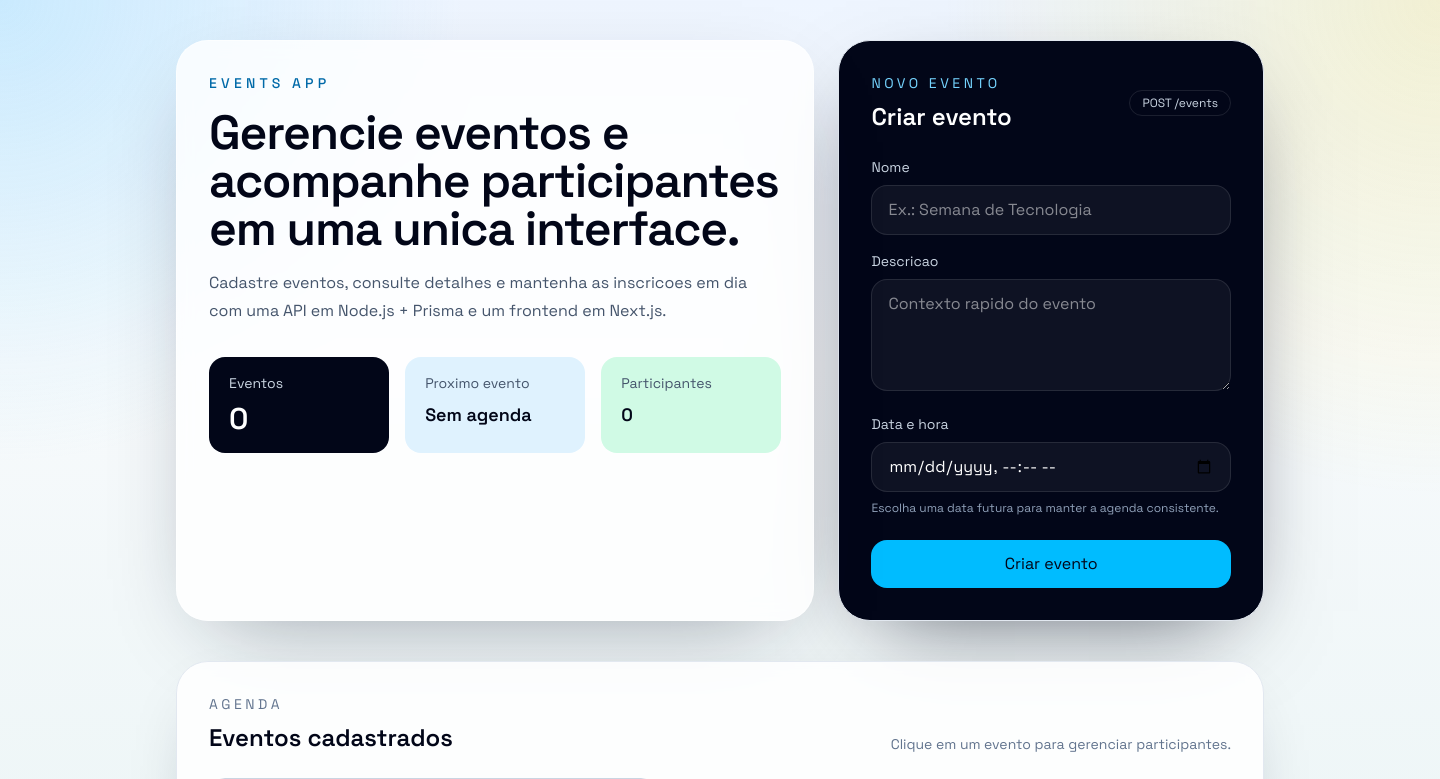
Scenario: HomePage › shows validation error for past date
Type "Tech Summit" into the field with placeholder "Ex.: Semana de Tecnologia" at coordinates (1051, 210), box [871,185,1231,235]
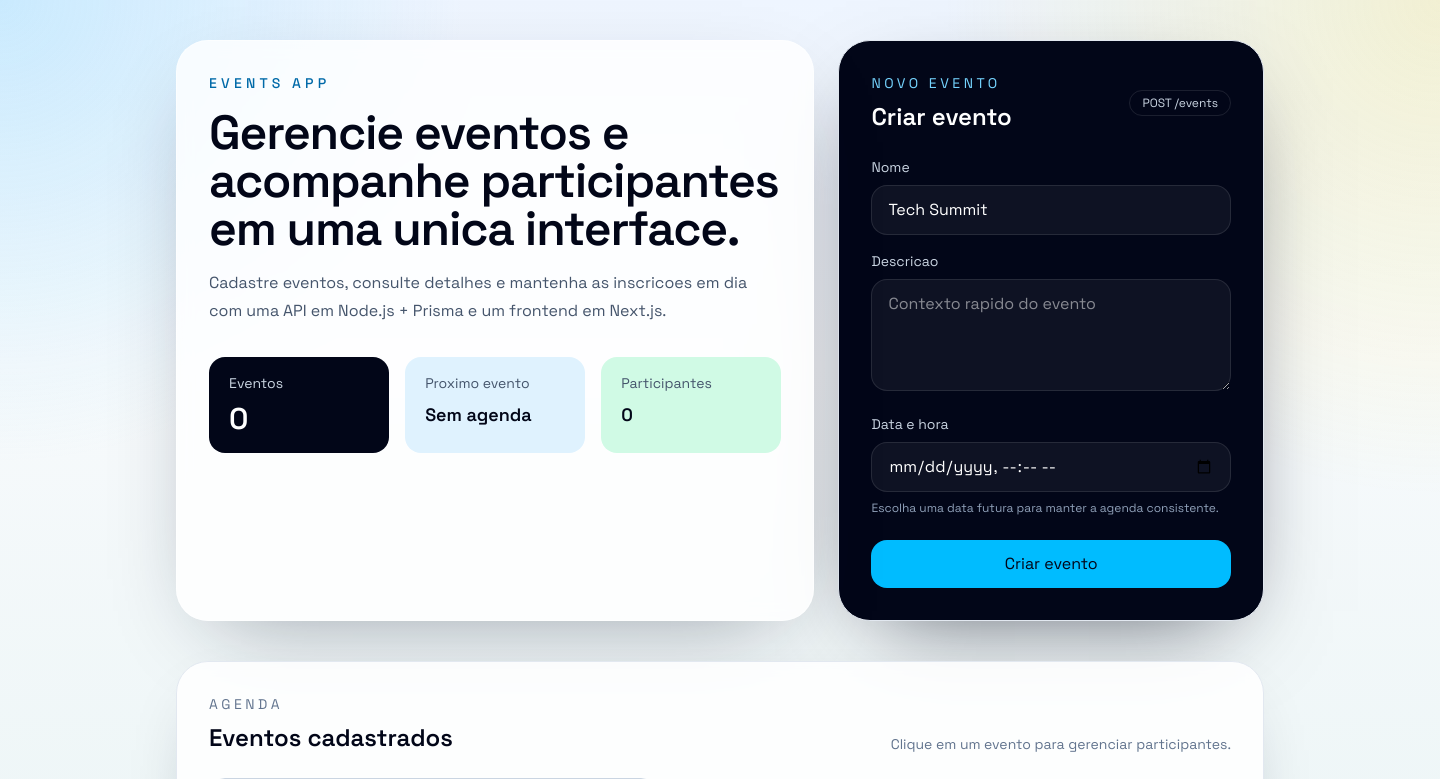
Type "2020-01-01T10:00" into the 2nd field at coordinates (1051, 467), box [871,442,1231,492]
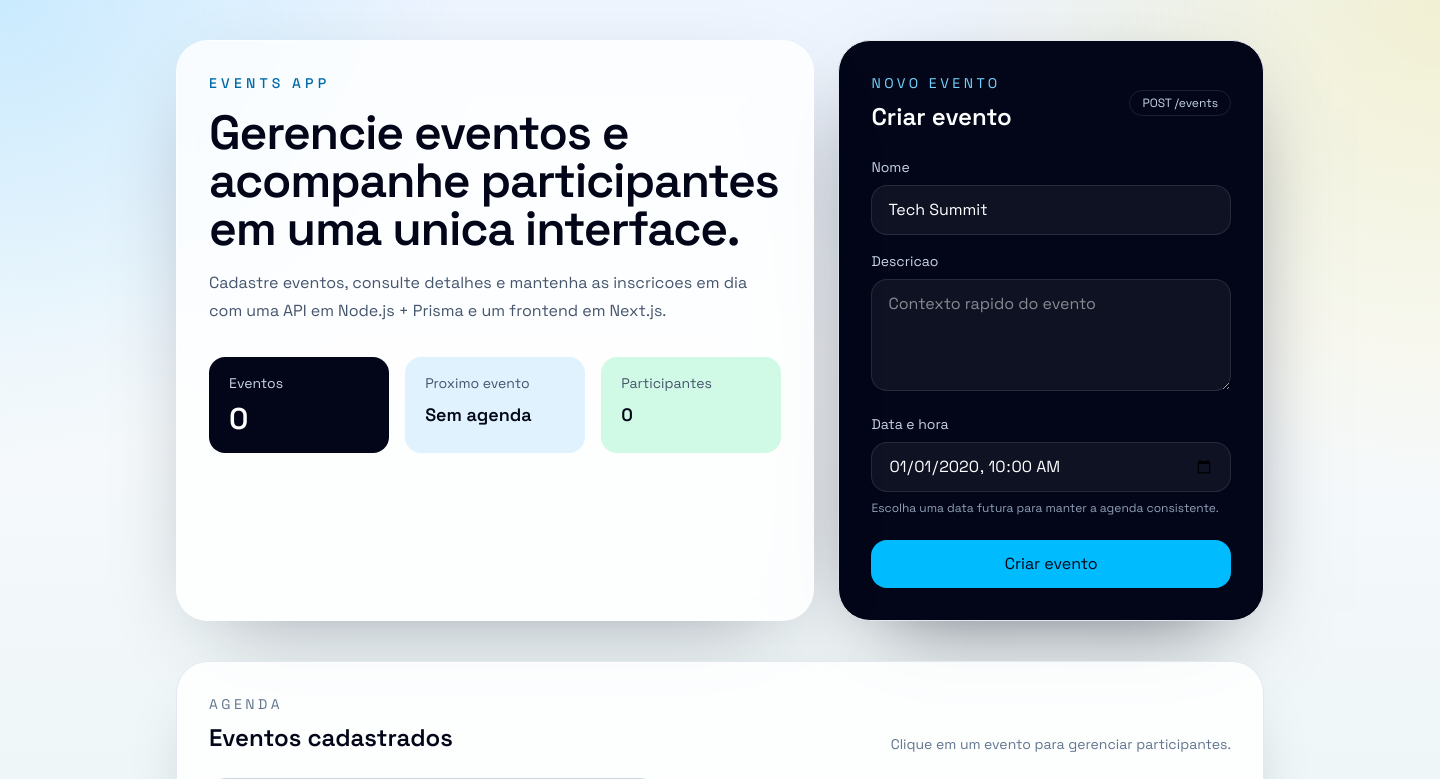
Submit the form from the button "Criar evento", box [871,540,1231,588]
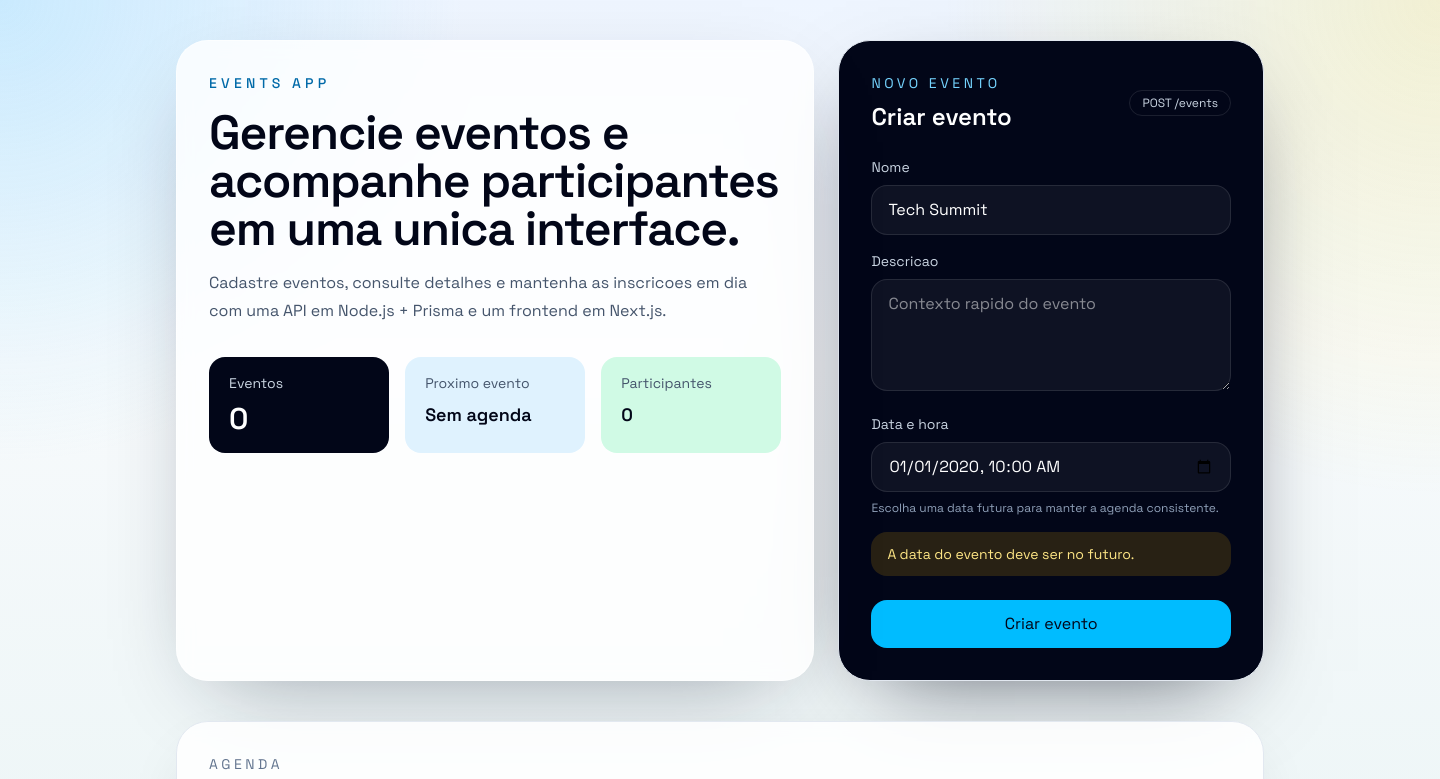
Expected: the text "A data do evento deve ser no futuro." is shown, [871,532,1231,576]
